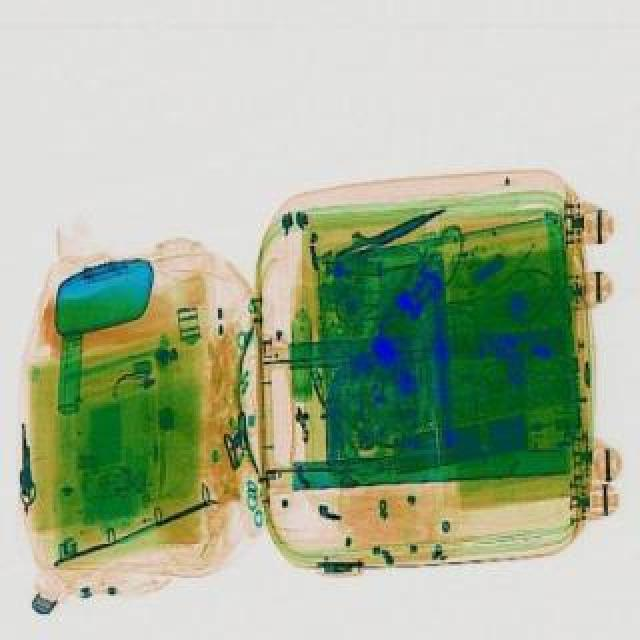knife: (328, 194, 450, 266)
